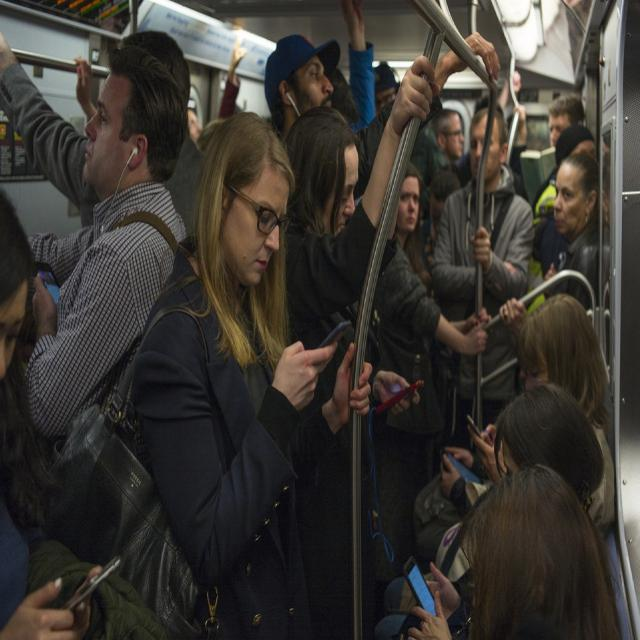body: (130, 102, 376, 639), (74, 0, 633, 196), (1, 23, 193, 529), (280, 50, 441, 640), (398, 293, 628, 640), (20, 26, 194, 444), (0, 184, 123, 638), (373, 157, 492, 575), (497, 62, 605, 496), (431, 102, 535, 447), (430, 104, 532, 415), (500, 144, 612, 346), (261, 0, 379, 169), (540, 123, 599, 270), (184, 37, 249, 144)
